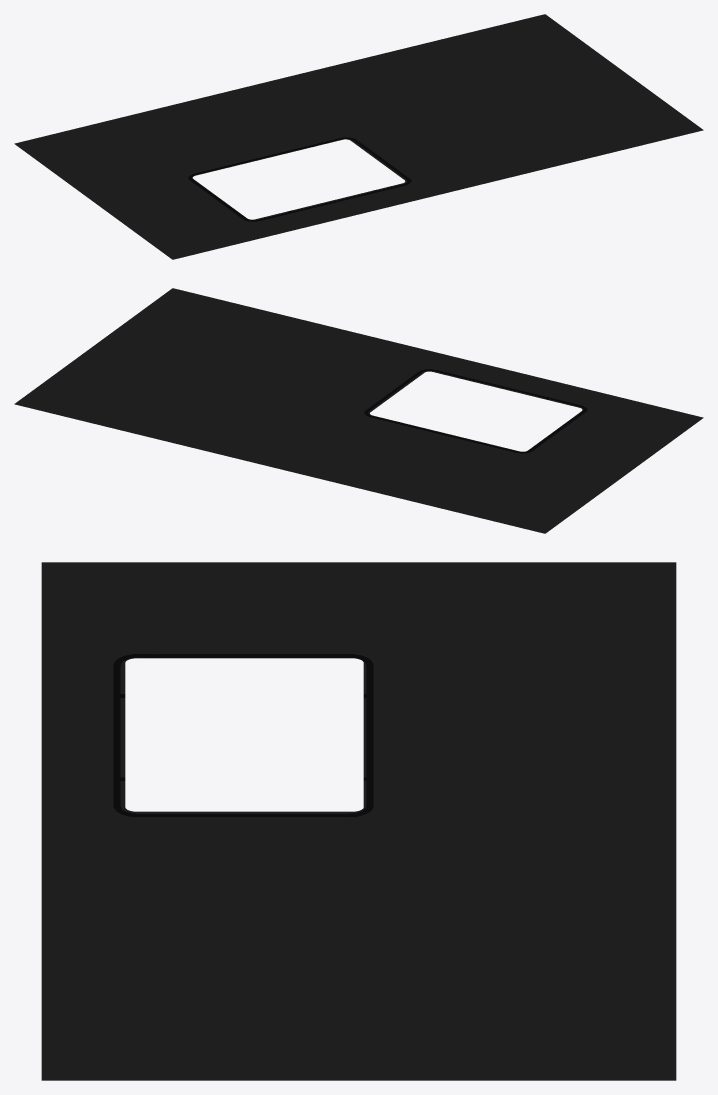
File: Ipad.glb
3 renders of one model, top to bottom at view 1: azimuth 30°, elevation 25°; view 2: azimuth 150°, elevation 25°; view 3: azimuth 270°, elevation 25°, orthographic. The views are drawn at different scales.
Parts seen in each view (by area): view 1: Plane; view 2: Plane; view 3: Plane.
Boxes of the visible parts, bbox=[...] form: Plane: bbox=[14, 14, 703, 259]; Plane: bbox=[14, 288, 703, 533]; Plane: bbox=[41, 562, 676, 1080].
Size of the model in its own units: 11.79 by 0 by 6.1.
Materials: 1 (1 with a texture image).
